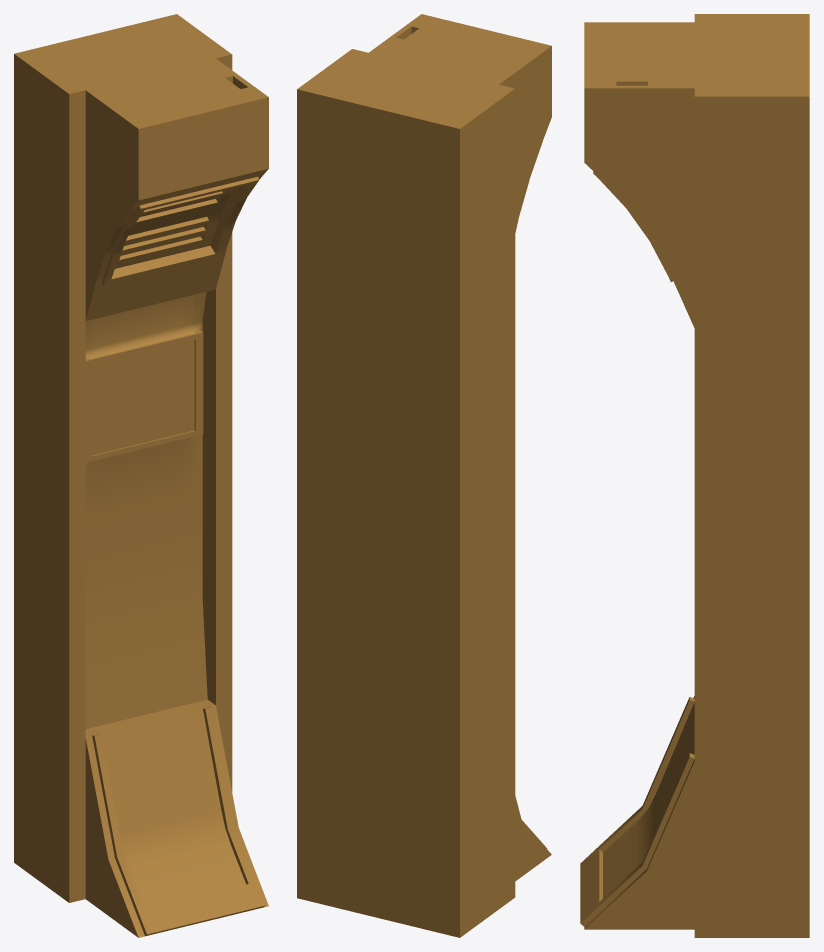
Rendered from u2_wall_support_asset.fbx.
3 views of the same model, side by side, from view 1: azimuth 30°, elevation 25°; view 2: azimuth 150°, elevation 25°; view 3: azimuth 270°, elevation 25° (orthographic). The views are drawn at different scales.
Parts seen in each view (by area): view 1: pasted__pCube33; view 2: pasted__pCube33; view 3: pasted__pCube33.
Part boxes in pixels (<box>): pasted__pCube33: <box>14,14,268,937</box>; pasted__pCube33: <box>297,14,551,937</box>; pasted__pCube33: <box>580,14,809,937</box>.
Bounding box in the file's own units: 0.8304 × 3.94 × 0.9725.
